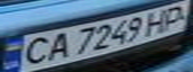2: (93, 20, 115, 52)
4: (109, 17, 133, 46)
7: (72, 25, 96, 56)
9: (124, 13, 151, 42)
A: (42, 30, 75, 62)
C: (15, 34, 54, 68)
H: (139, 7, 175, 36)
P: (157, 2, 193, 32)
